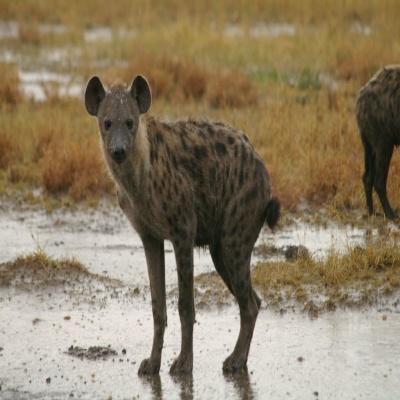hyenas: (81, 42, 307, 390)
